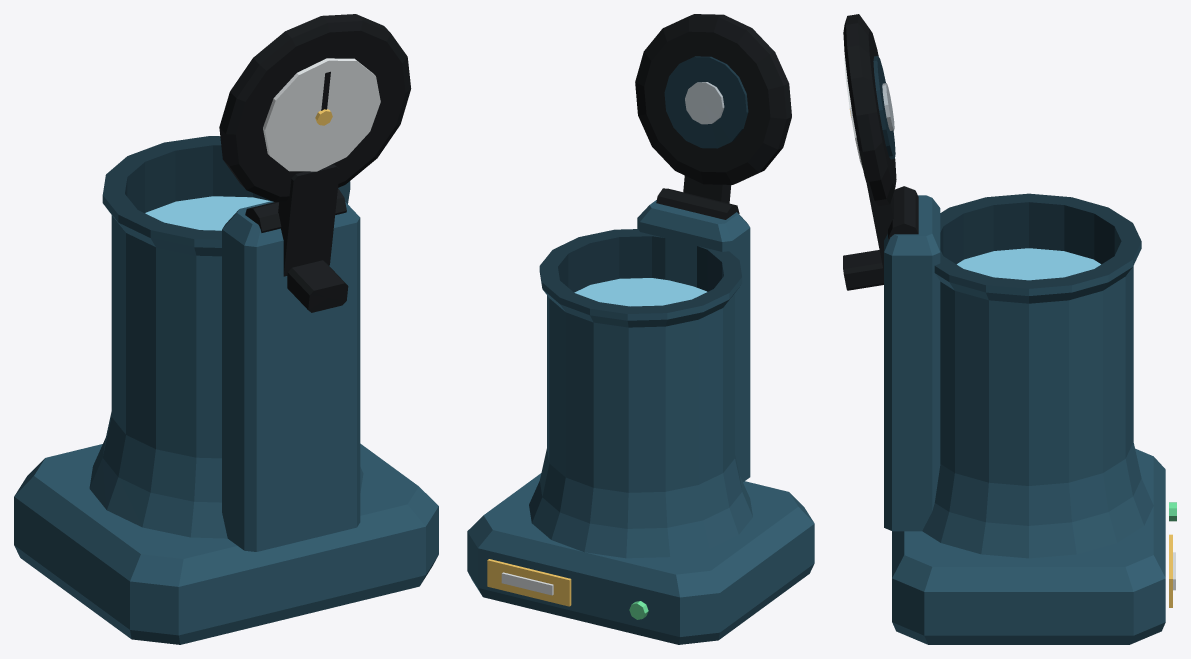
The model's file is strawthawer.obj.
The picture shows the model from 3 angles, left to right: view 1: azimuth 30°, elevation 25°; view 2: azimuth 150°, elevation 25°; view 3: azimuth 270°, elevation 25°; orthographic projection. The views are drawn at different scales.
Parts seen in each view (by area): view 1: foot, spine, body, lid_disc, lid_dial, liner, lid_arm, rim, water, lid_tab, hinge; view 2: body, foot, lid_disc, spine, liner, lid_ring, rim, water, label, hinge, lid_boss, lid_arm (+1 smaller); view 3: body, foot, spine, liner, lid_disc, rim, water, lid_tab, hinge, lid_ring, lid_arm.
Part boxes in pixels (x1,y1,x2,y2): foot: [14, 443, 438, 644]; spine: [222, 201, 360, 551]; body: [89, 182, 363, 538]; lid_disc: [219, 14, 411, 201]; lid_dial: [263, 58, 380, 171]; liner: [125, 145, 270, 212]; lid_arm: [278, 164, 339, 276]; rim: [102, 136, 350, 239]; water: [145, 196, 270, 230]; lid_tab: [287, 260, 348, 312]; hinge: [245, 188, 346, 232]; body: [529, 266, 752, 558]; foot: [467, 473, 814, 644]; lid_disc: [635, 14, 791, 184]; spine: [637, 200, 750, 482]; liner: [558, 236, 723, 292]; lid_ring: [664, 56, 748, 148]; rim: [540, 229, 741, 313]; water: [574, 278, 706, 306]; label: [487, 559, 571, 606]; hinge: [656, 188, 739, 219]; lid_boss: [685, 82, 724, 124]; lid_arm: [683, 176, 731, 203]; body: [922, 242, 1153, 558]; foot: [892, 448, 1165, 644]; spine: [884, 195, 940, 531]; liner: [940, 202, 1121, 264]; lid_disc: [843, 14, 896, 206]; rim: [935, 193, 1141, 288]; water: [957, 248, 1100, 280]; lid_tab: [843, 250, 883, 290]; hinge: [888, 186, 918, 239]; lid_ring: [873, 56, 895, 159]; lid_arm: [867, 185, 893, 271].
Bounding box in the file's own units: 0.16 × 0.3046 × 0.1659.
